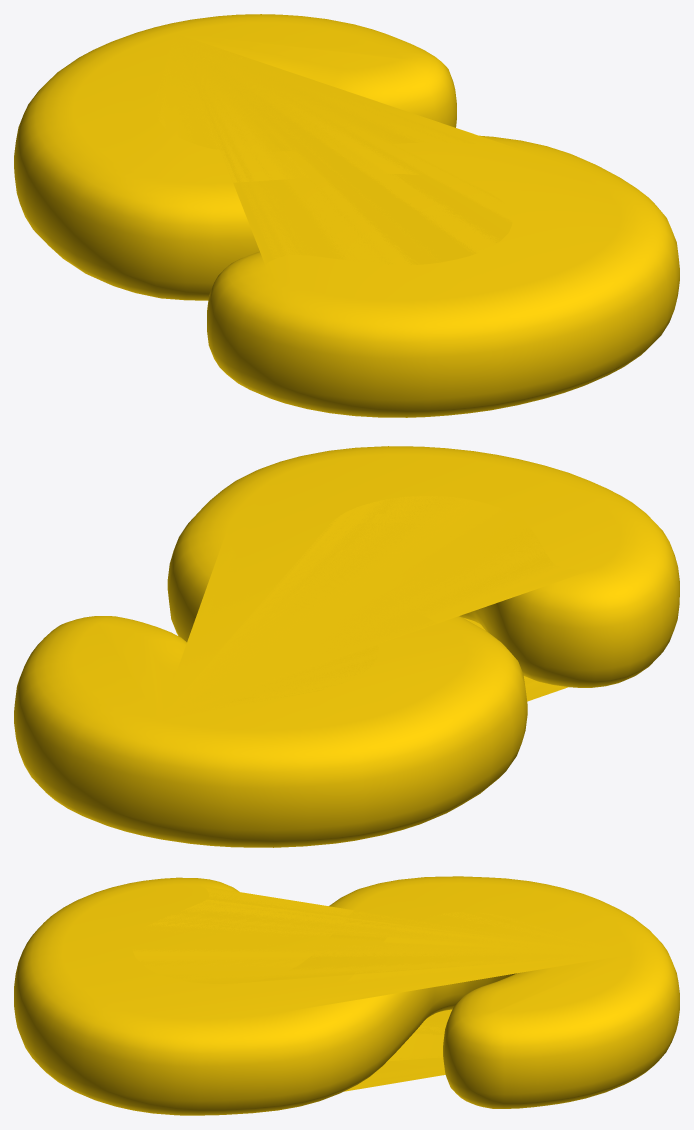
3 views of the same model, one above another, from view 1: azimuth 30°, elevation 25°; view 2: azimuth 150°, elevation 25°; view 3: azimuth 270°, elevation 25° (orthographic). The views are drawn at different scales.
Parts seen in each view (by area): view 1: Curve.020; view 2: Curve.020; view 3: Curve.020.
Boxes of the visible parts, x1=… form: Curve.020: x1=14, y1=14, x2=679, y2=417; Curve.020: x1=14, y1=446, x2=679, y2=847; Curve.020: x1=14, y1=876, x2=679, y2=1115.
Bounding box in the file's own units: 210 × 49.54 × 333.
Materials: 1 (1 with a texture image).
